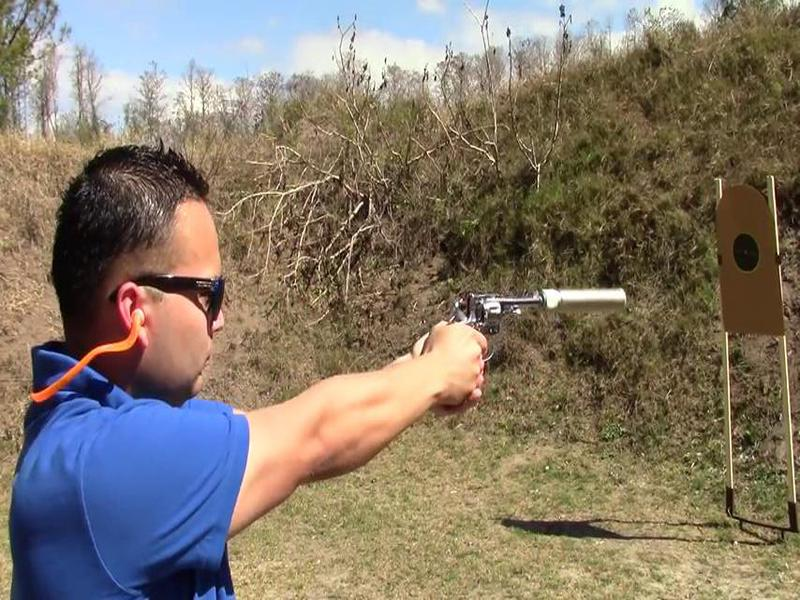Revolver: (438, 277, 549, 376)
